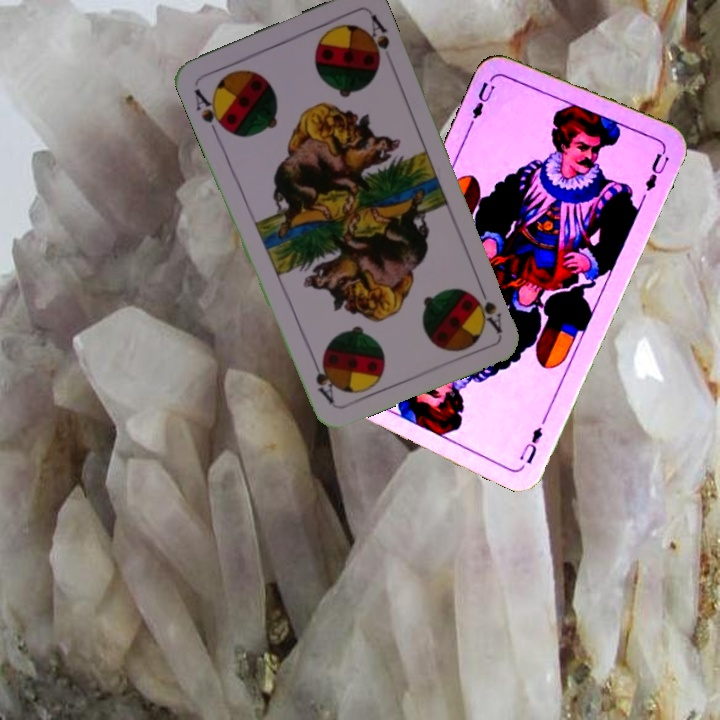EU: (466, 77, 497, 127), (515, 423, 545, 467)
SA: (190, 84, 230, 138), (468, 279, 505, 336)
